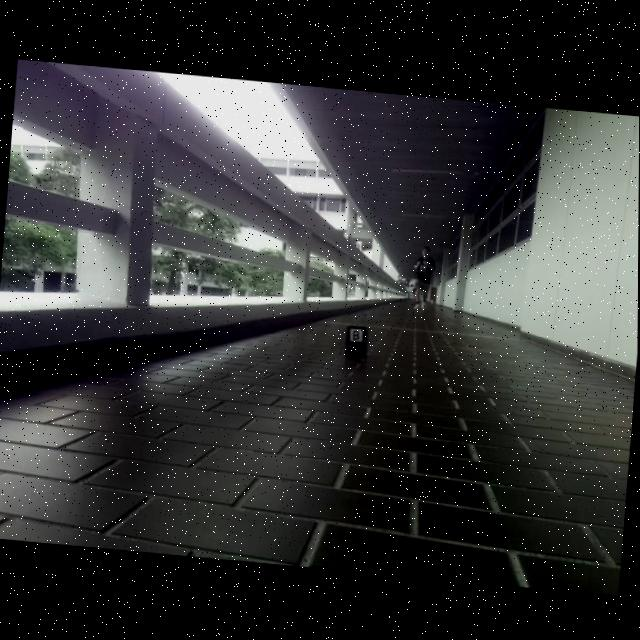B: (351, 328, 361, 340)
